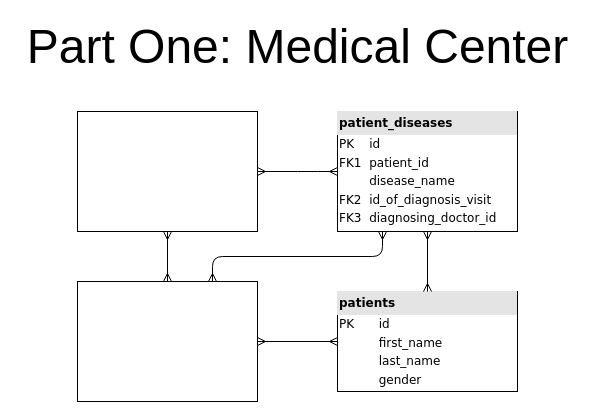
This 594x419 diagram has some shape labels left out. Here are the shapes that lost their labels. From the top down, the centre of each, then its label:
point 167,171: d octors PK id first_name last_name gender office_location
point 167,341: visits PK id FK1 doctor_id FK2 patient_id visit_date room_num
